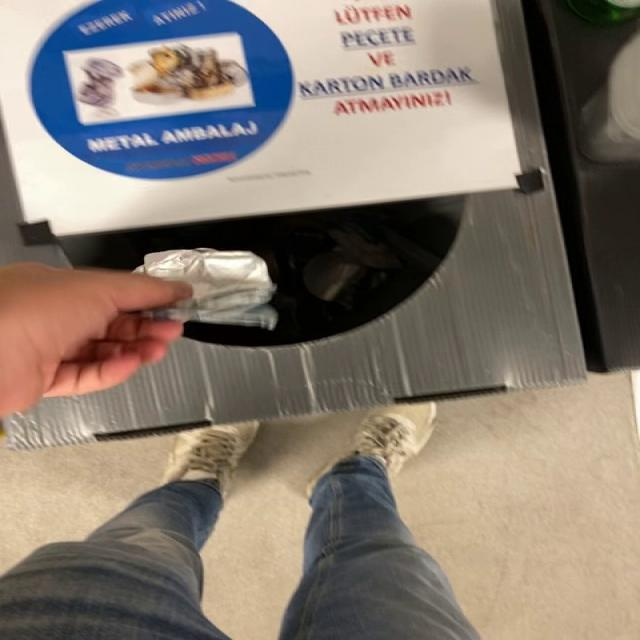Metal: (135, 248, 277, 330)
